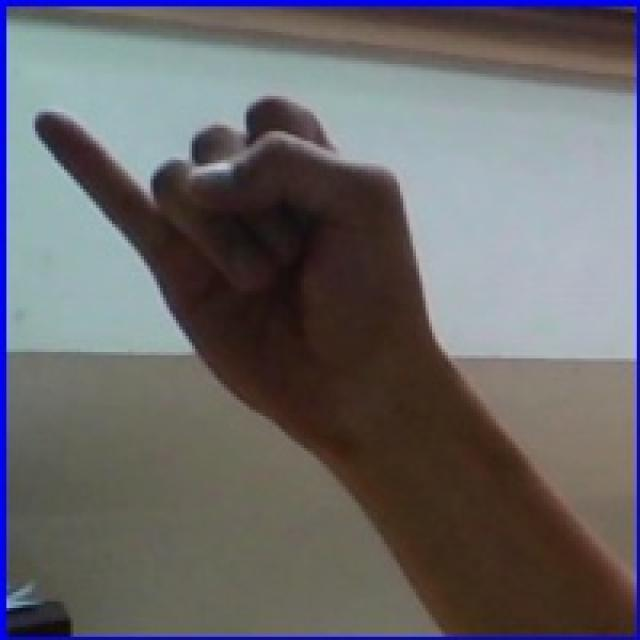J: (26, 19, 514, 434)
